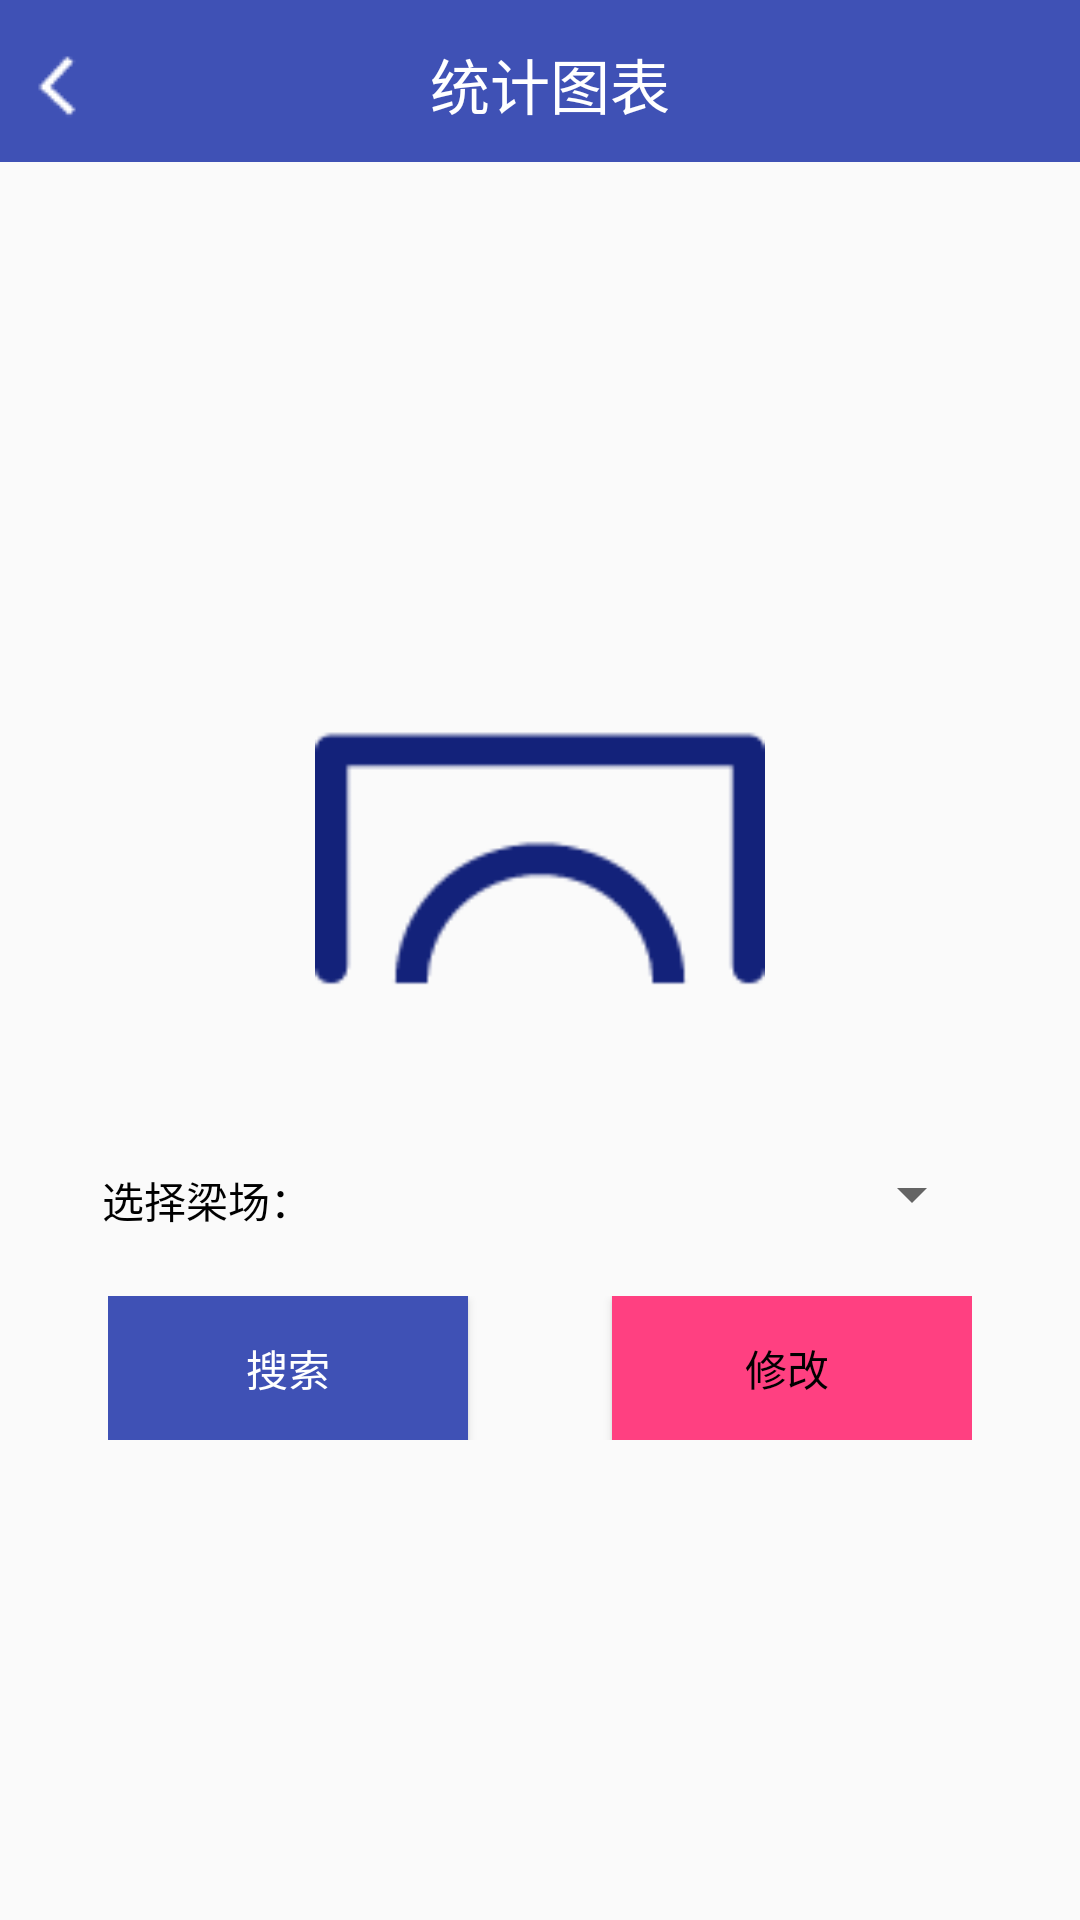

Icon bounding boxes for this 1080 × 1920 phone screenshot, format region(x1, y1, x2, y2):
back: region(39, 56, 76, 115)
